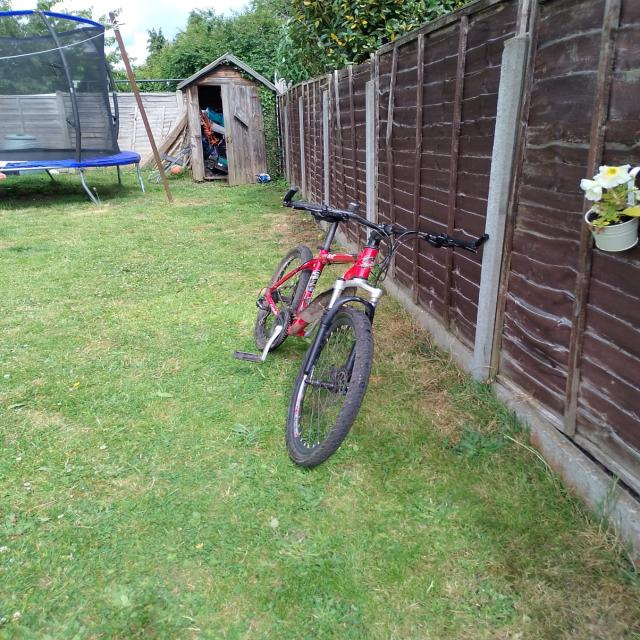bicycle: (233, 175, 500, 483)
